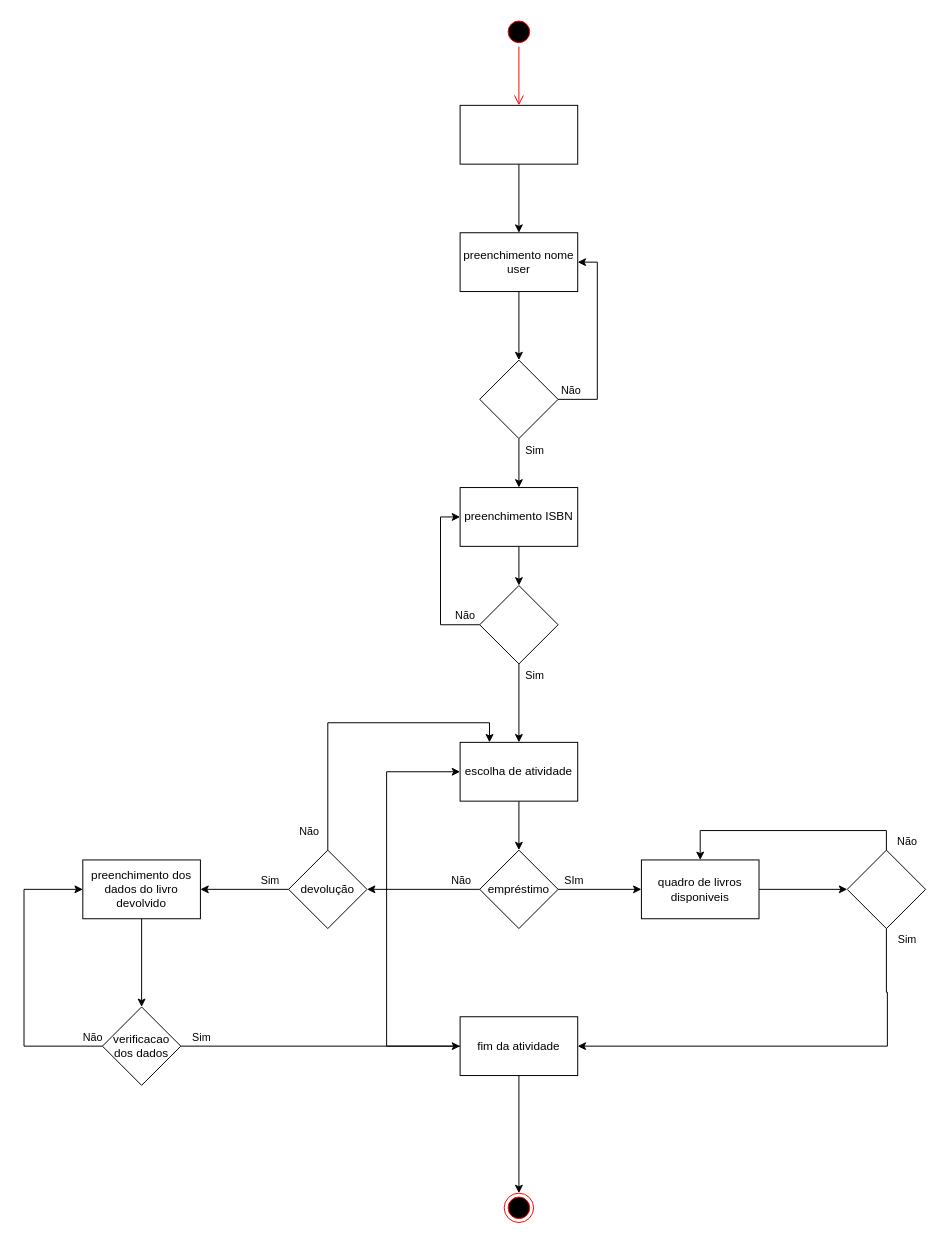
Image size: 943x1240. Some labels were removed from this diagram. The centre of each missing label's shape, as x and y in pixels:
confirmacao do livro: the point at 886,889
login: the point at 518,134
verificacao ISBN: the point at 518,624
verificacao nome user: the point at 518,399
